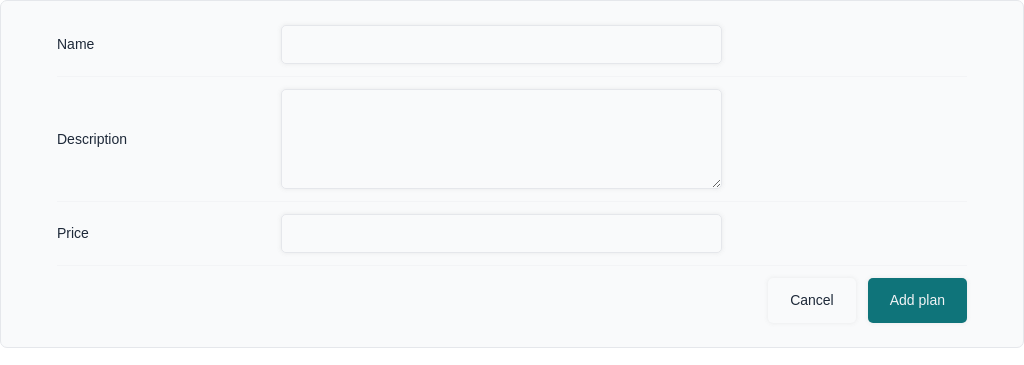
Scenario: PlanForm › shows validation errors for required fields
Click the button "Add plan": (917, 300) [868,278,967,323]
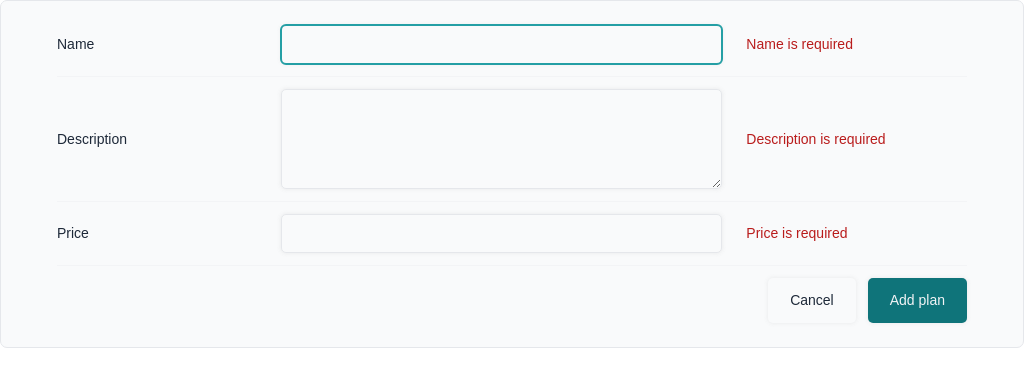
Expected: the text "Name is required" is shown, [746,36,853,52]
Expected: the text "Description is required" is shown, [746,130,886,146]
Expected: the text "Price is required" is shown, [746,225,848,241]
